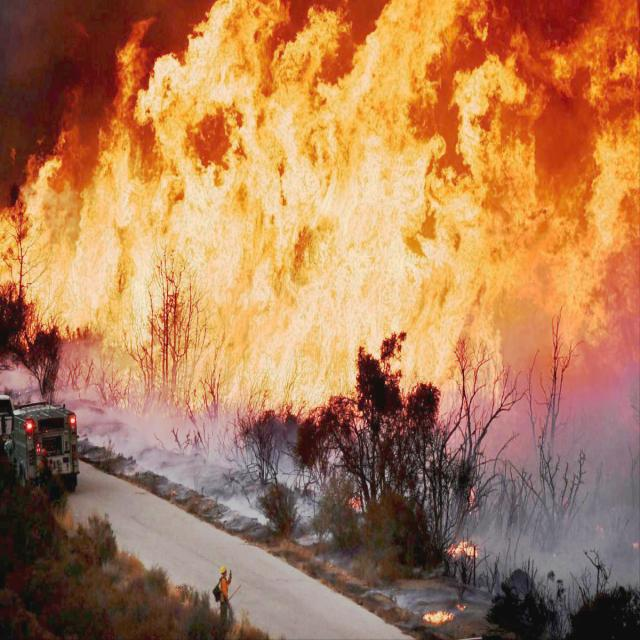api: (1, 1, 634, 374), (181, 360, 364, 426), (426, 590, 455, 637), (453, 540, 483, 564)
asap: (495, 387, 638, 605), (100, 411, 190, 491)
